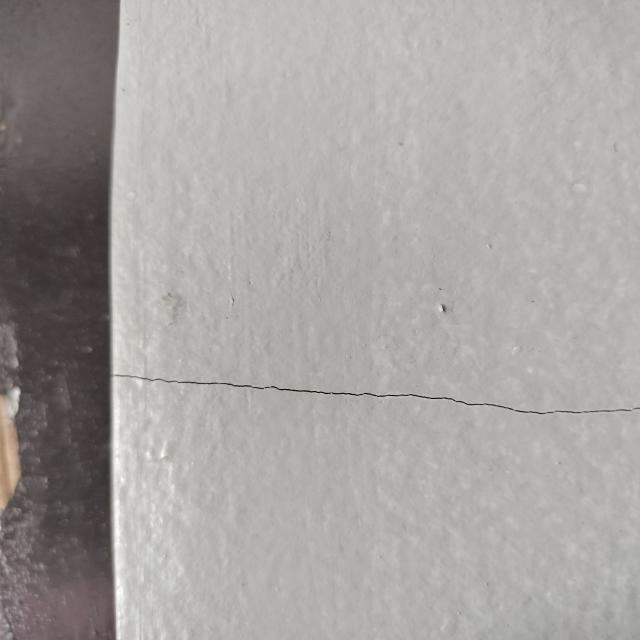Crack: (115, 368, 640, 424)
